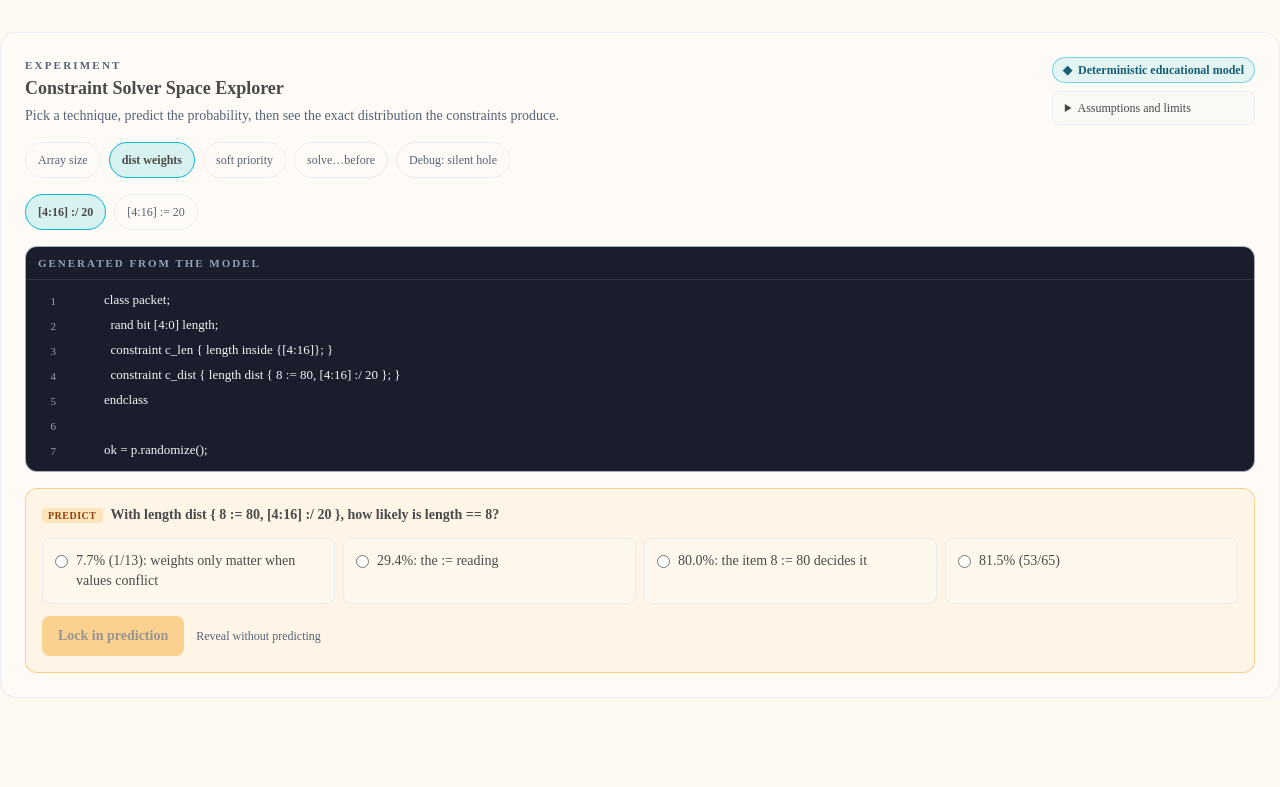
Test case: ConstraintSolverExplorer › adds the weights of 8, which appears in both dist items
Expected: the text "length dist { 8 := 80, [4:16] :/ 20 };" is shown, [104,367,401,382]
Click the radio button labelled "80.0%: the item 8 := 80 decides it": (664, 562) [657,555,670,568]
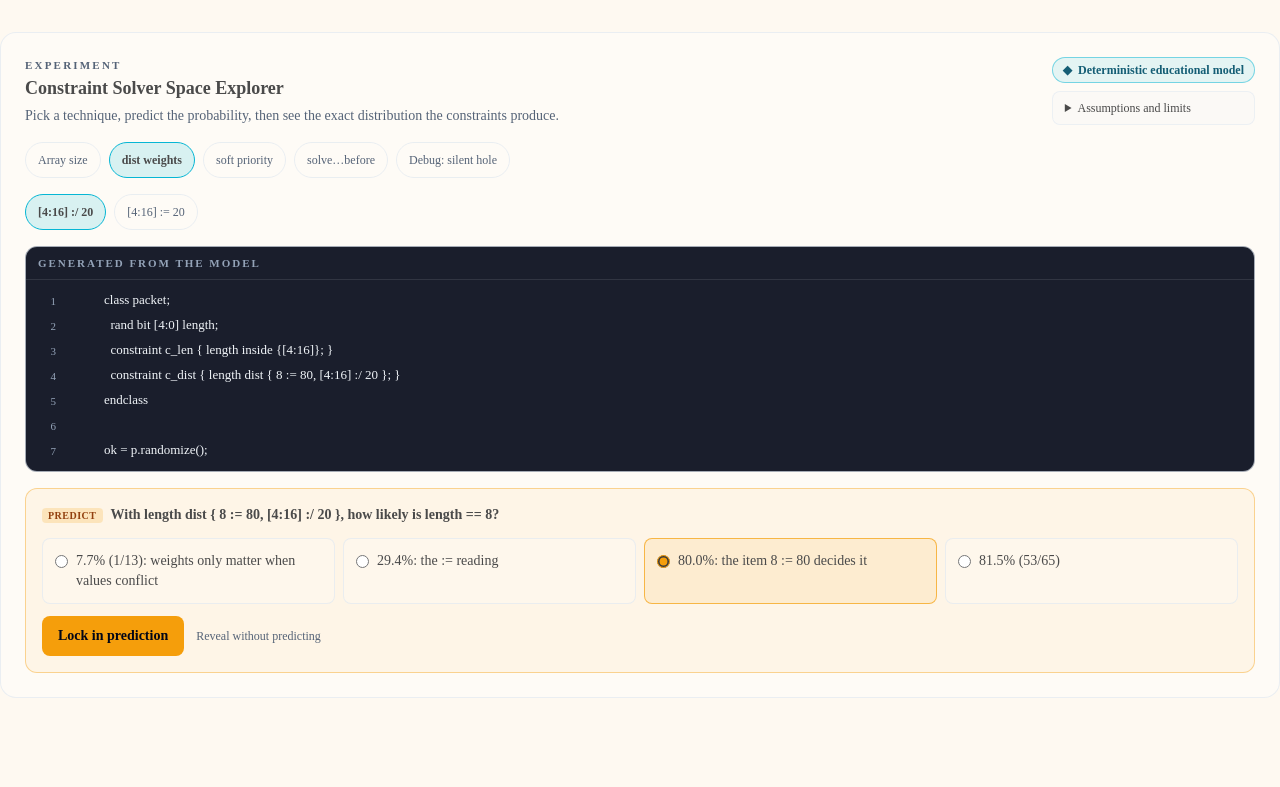
Click the button "Lock in prediction": (113, 636) [42,616,184,656]
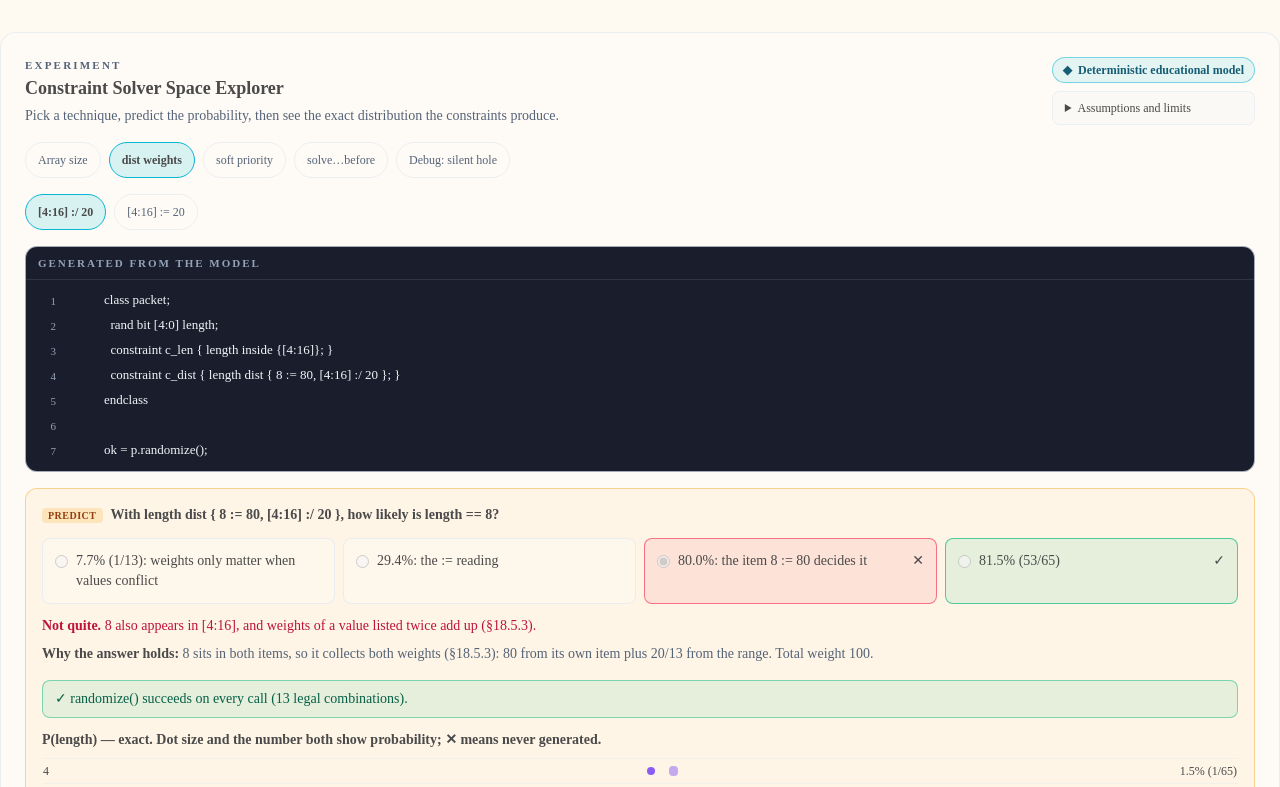
Expected: the text "81.5% (53/65)" is shown, [979,553,1060,568]
Expected: the text "weights of a value listed twice add up" is shown, [105,618,536,633]
Click the radio button named ":= gives every value 20": (156, 212) [114,194,198,230]
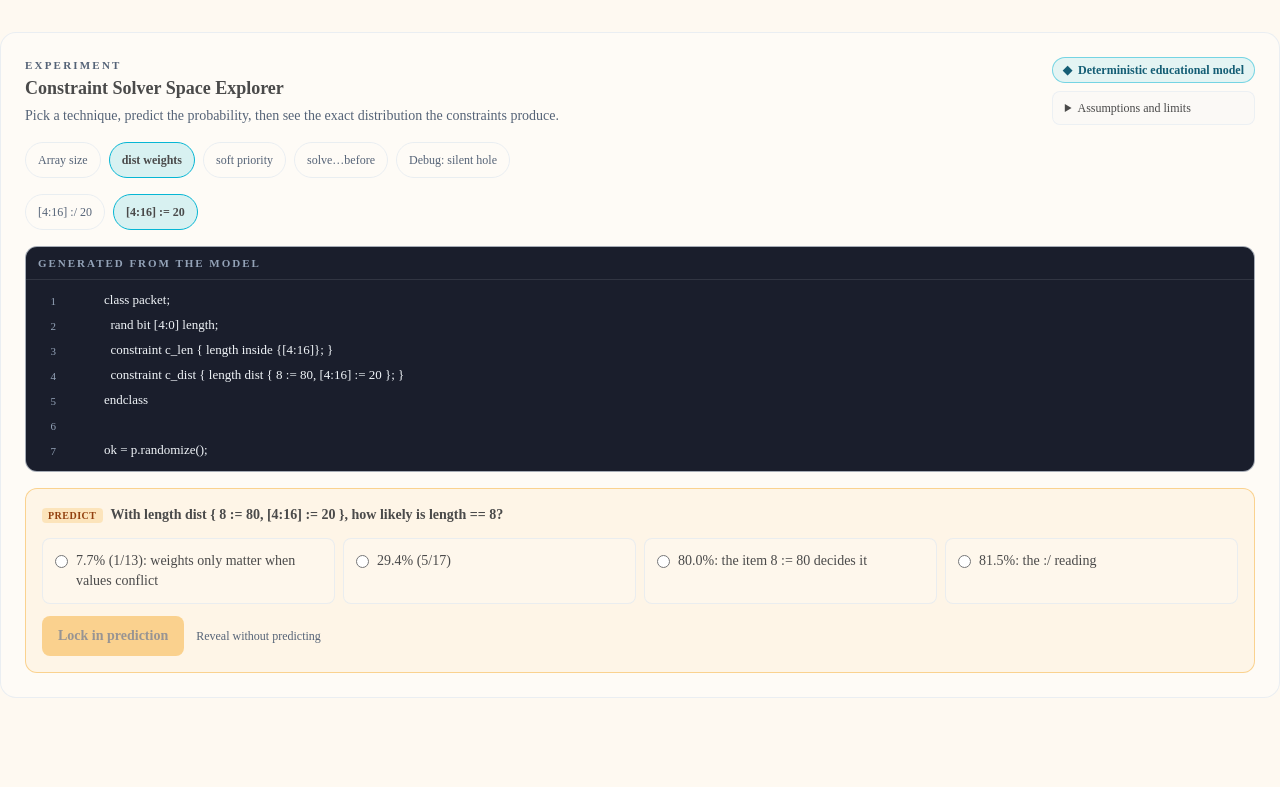
Click the radio button labelled "29.4% (5/17)": (362, 562) [356,555,369,568]
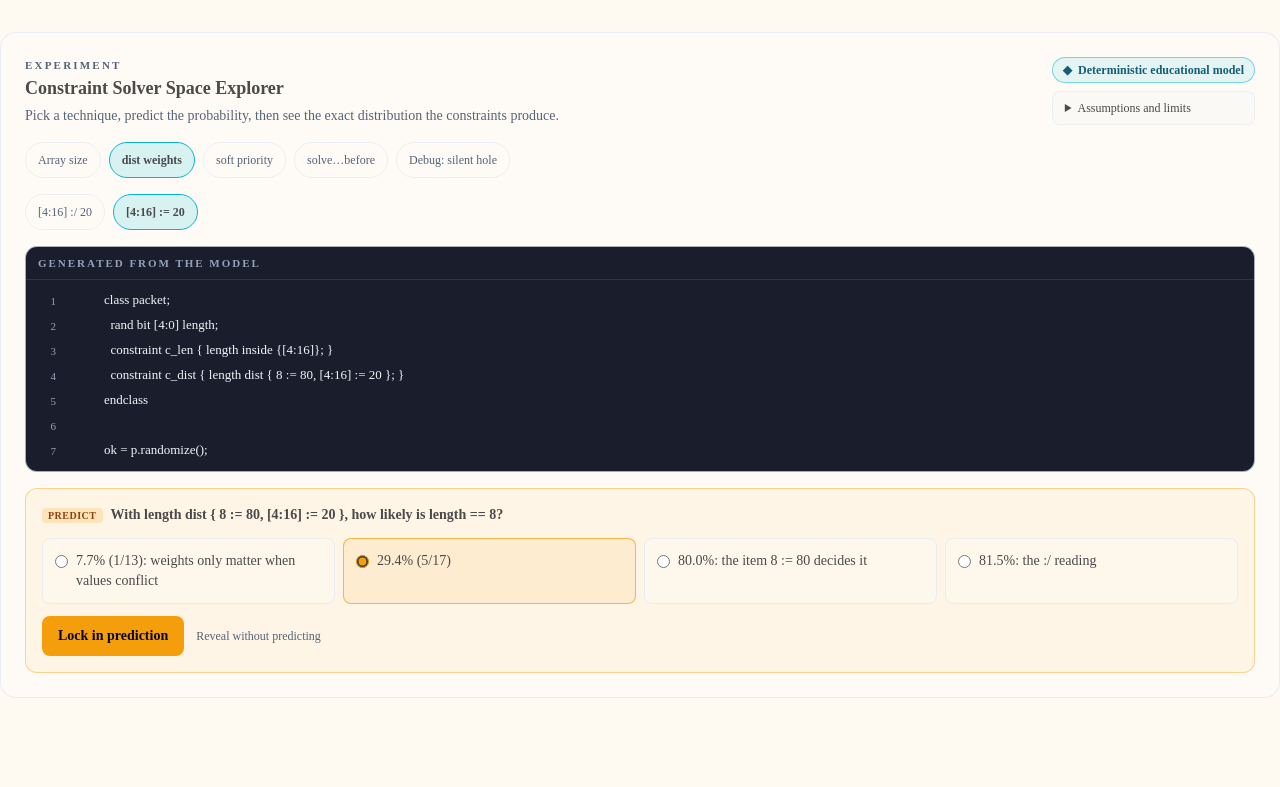
Click the button "Lock in prediction": (113, 636) [42,616,184,656]
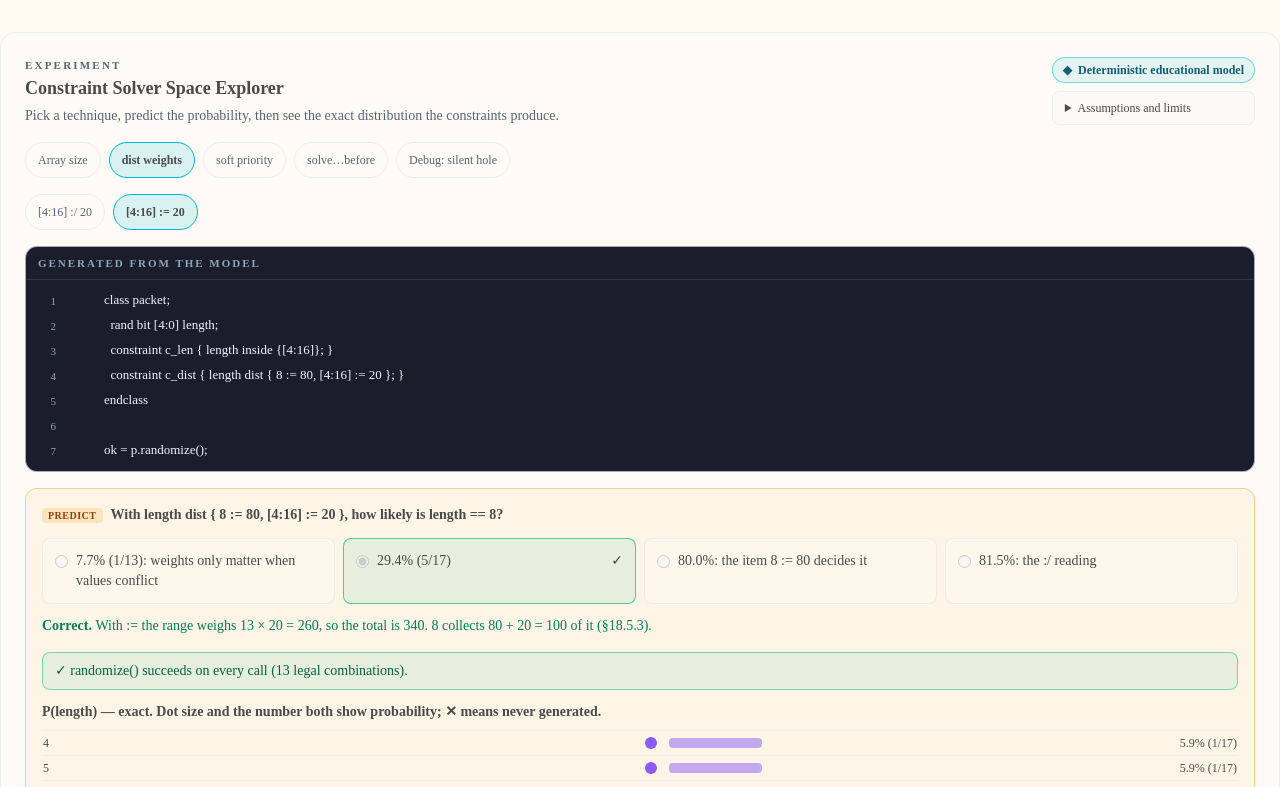
Expected: the text "Correct." is shown, [42,618,95,633]
